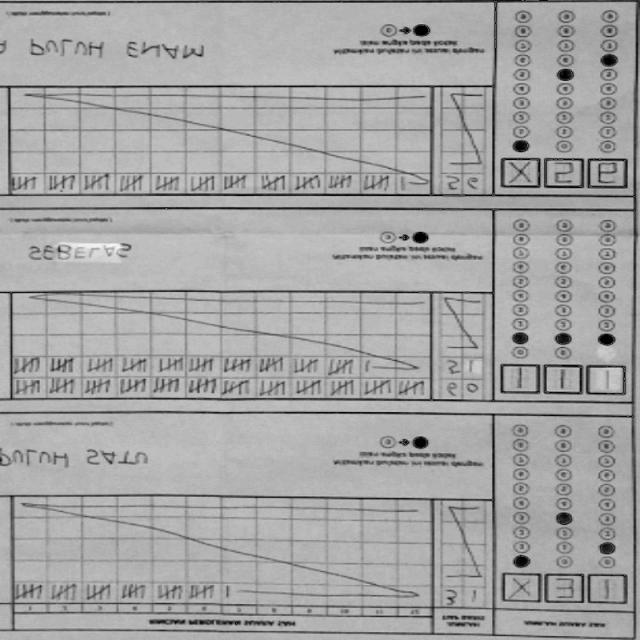Suara: (494, 157, 632, 198), (496, 364, 630, 398), (496, 574, 624, 607)
